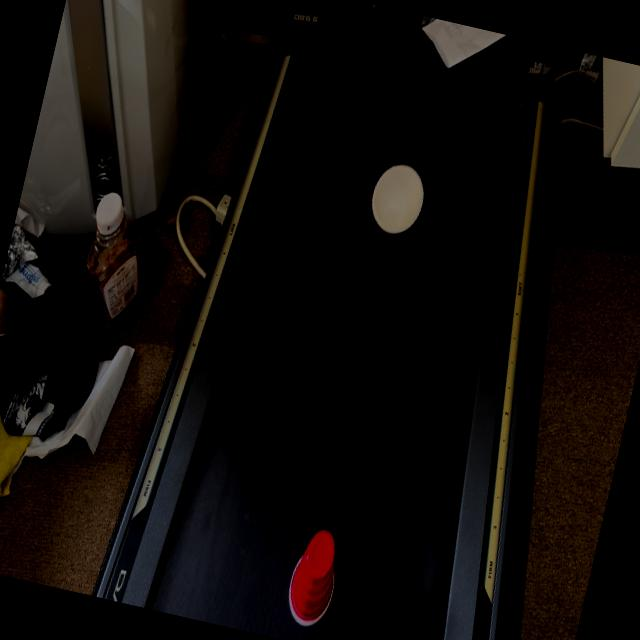Recycle: (288, 526, 356, 622)
Trash: (368, 158, 437, 240)
